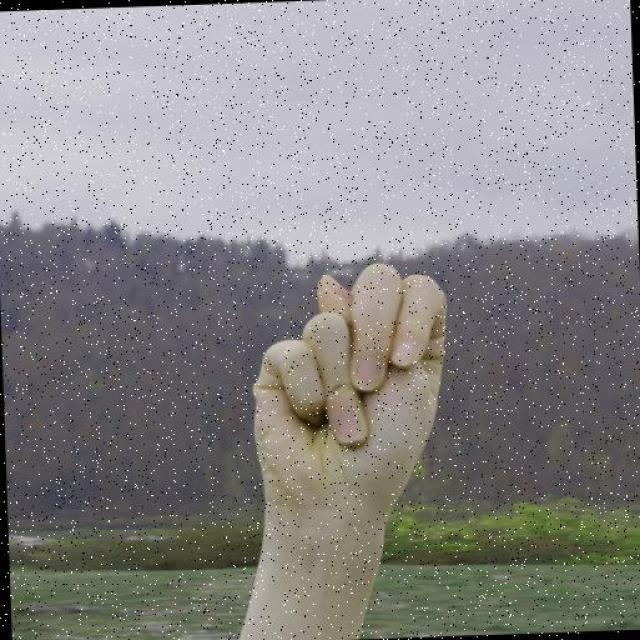N: (244, 261, 458, 509)
